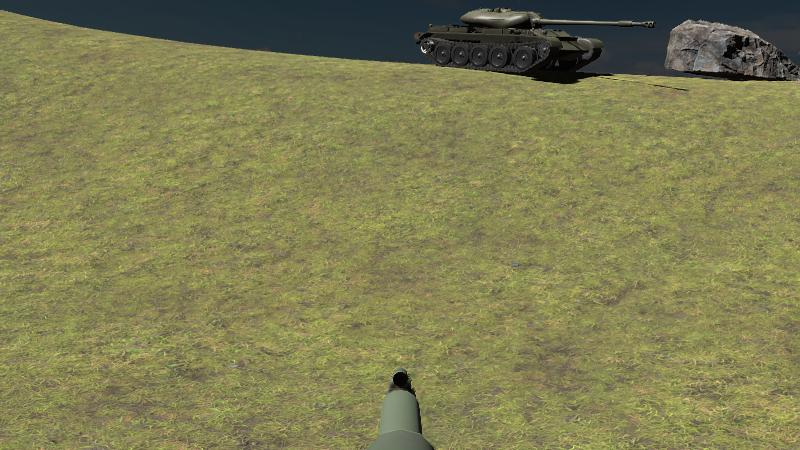Tank: (415, 8, 655, 78)
